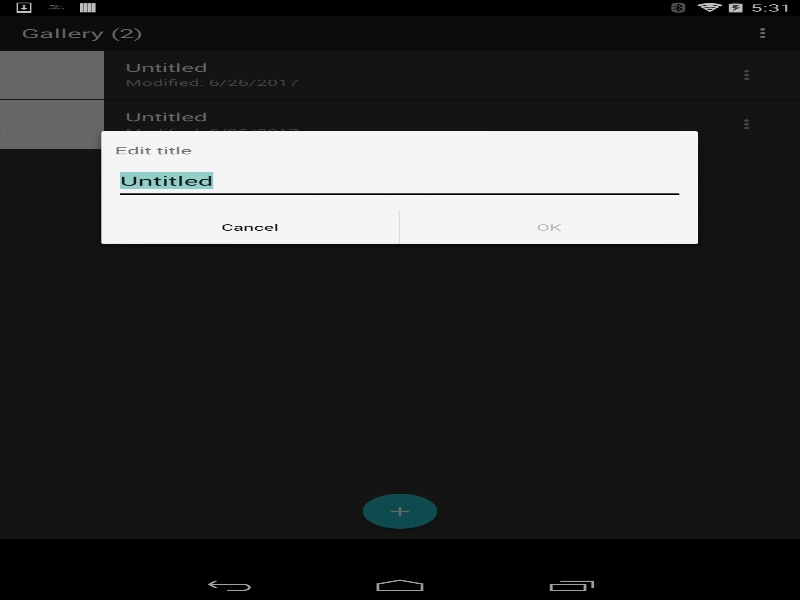Button: (400, 210, 698, 244), (101, 210, 398, 244)
Input: (114, 169, 684, 197)
